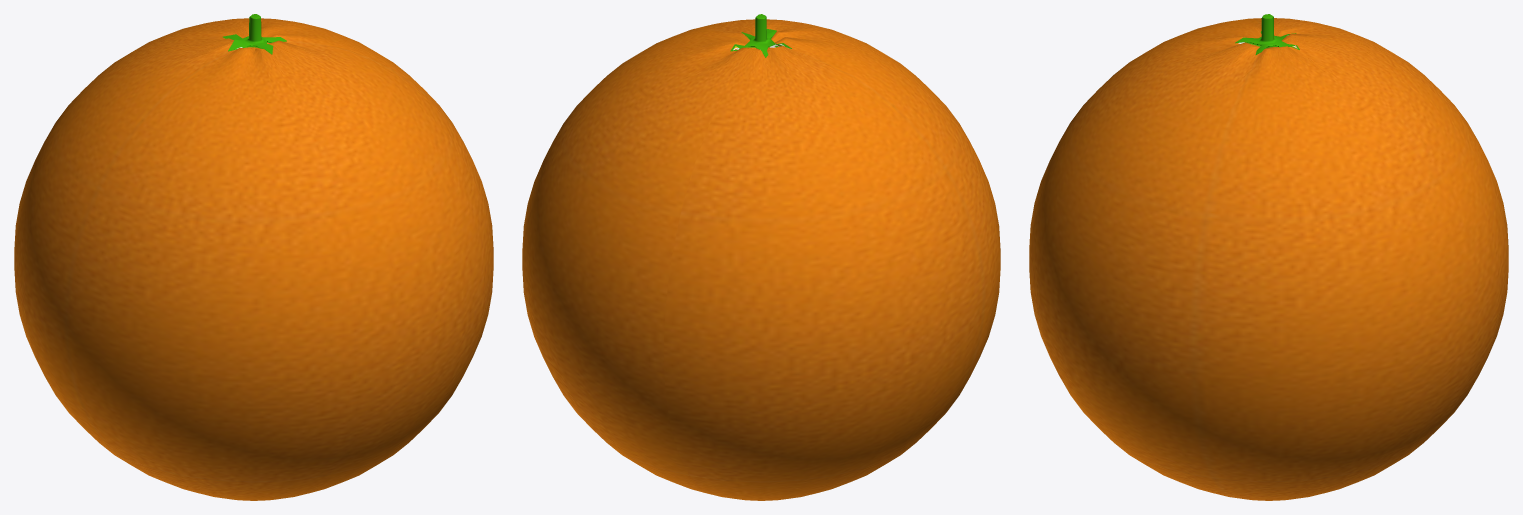
File: orange.obj
3 views of the same model, side by side, from view 1: azimuth 30°, elevation 25°; view 2: azimuth 150°, elevation 25°; view 3: azimuth 270°, elevation 25° (orthographic).
Visible parts, largest first — view 1: pSphere6.001_Untitled.009; view 2: pSphere6.001_Untitled.009; view 3: pSphere6.001_Untitled.009.
Part boxes in pixels (left/top/right/bottom): pSphere6.001_Untitled.009: left=14, top=14, right=493, bottom=500; pSphere6.001_Untitled.009: left=522, top=14, right=1000, bottom=500; pSphere6.001_Untitled.009: left=1029, top=14, right=1508, bottom=500.
Bounding box in the file's own units: 0.2262 × 0.2422 × 0.225.
Materials: 1 (1 with a texture image).
